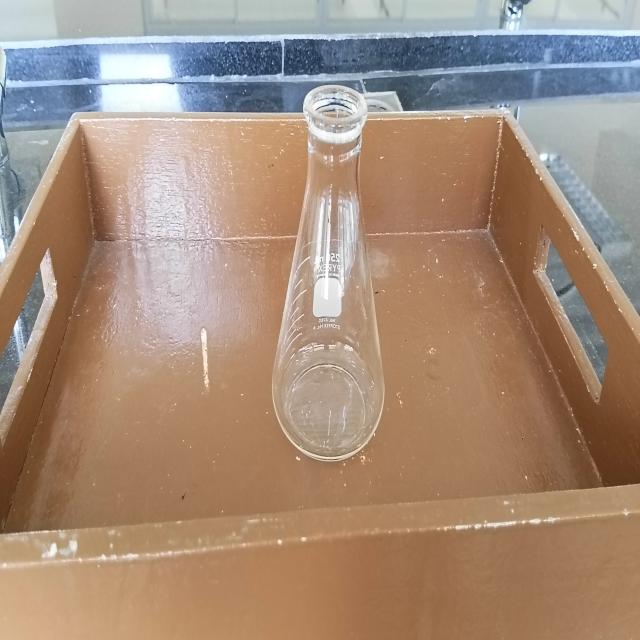erlenmeyer_flask: (271, 67, 384, 469)
